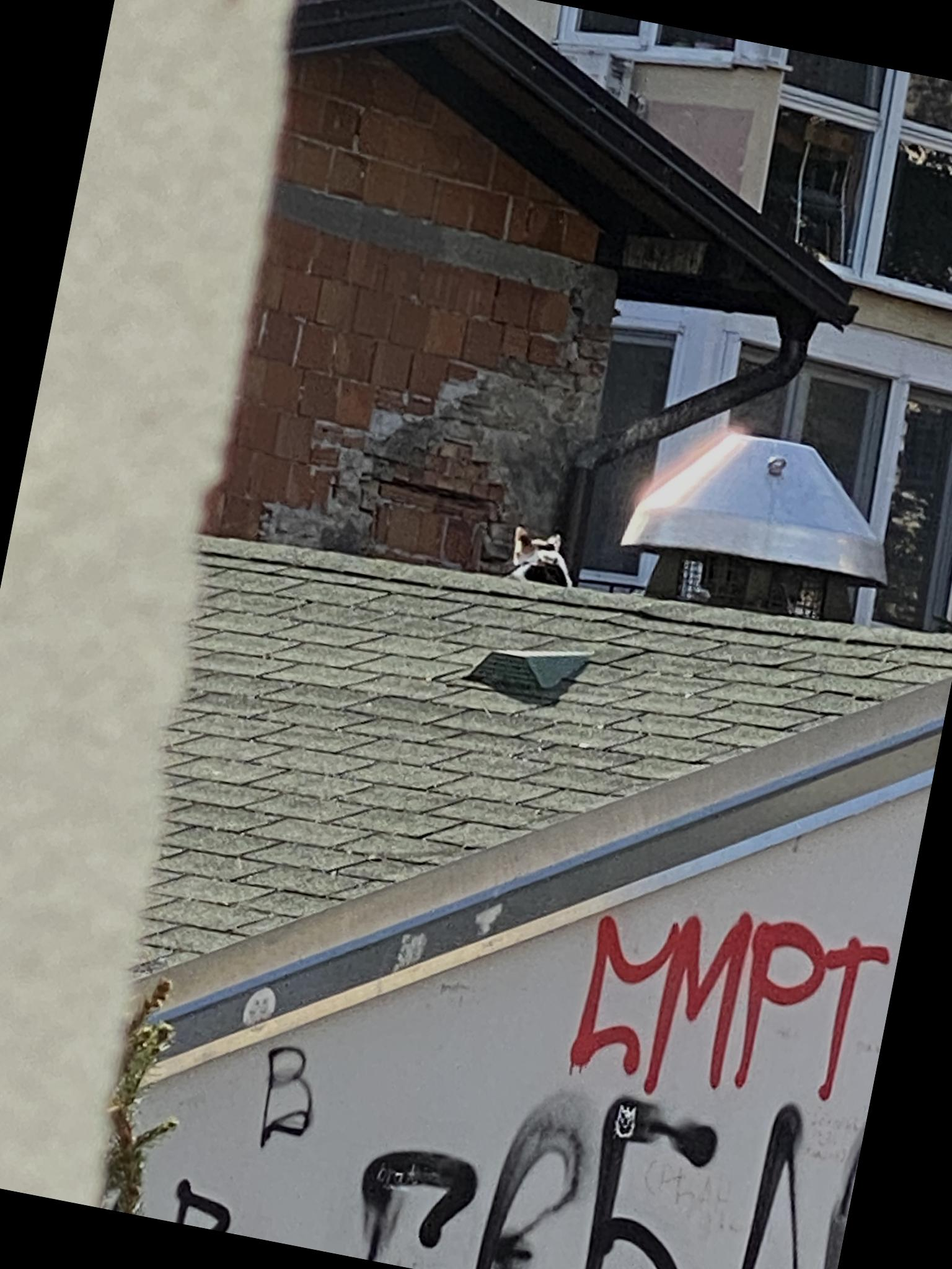macka: (504, 523, 581, 589)
